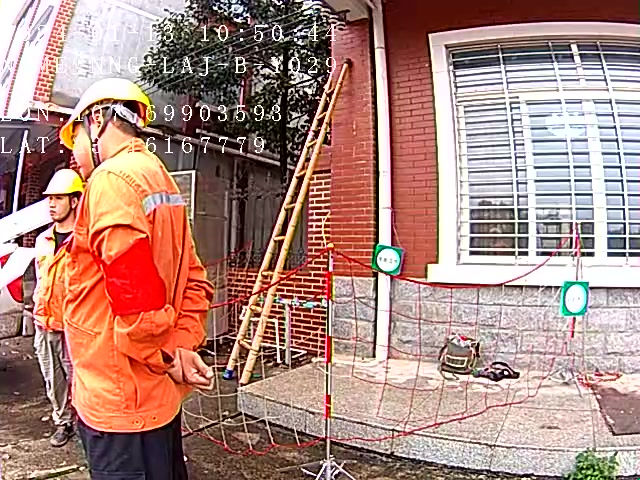badge: (97, 235, 168, 315)
halt: (74, 80, 150, 133), (40, 166, 86, 219)
hand: (172, 347, 216, 392)
inear: (77, 102, 116, 153)
intosign: (559, 281, 590, 319)
person: (31, 76, 219, 480)
worksign: (372, 242, 404, 278)
yupsuit: (59, 138, 217, 432), (33, 222, 74, 331)
